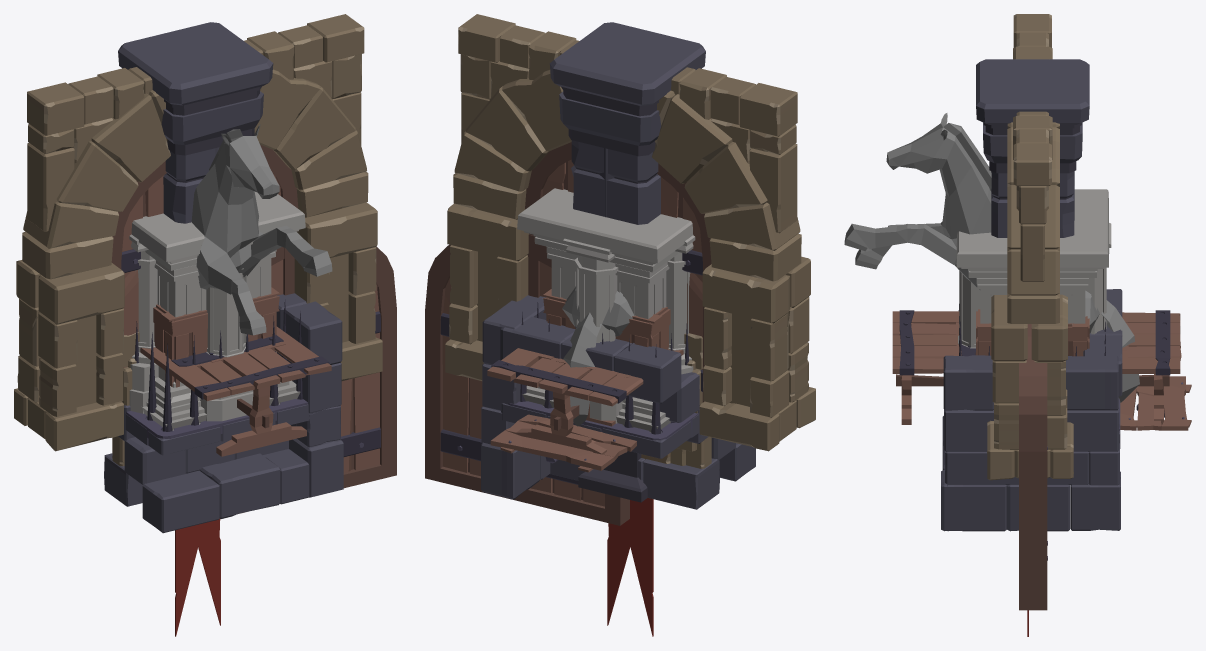
The model's file is SC_Lost_Quarters.fbx.
3 renders of one model, left to right at view 1: azimuth 30°, elevation 25°; view 2: azimuth 150°, elevation 25°; view 3: azimuth 270°, elevation 25°, orthographic. The views are drawn at different scales.
Visible parts, largest first — view 1: SM_Arch, SM_Column_2, SM_Stairs_Modular, SM_Horse, SM_Pedestal_2, SM_Arch_Door_Side, SM_Table_Big, SM_Pedestal_1, SM_Stairs_Side_Cover_Wall, SM_Arch_Door_2, SM_Crate, SM_Banner_wall (+8 smaller); view 2: SM_Arch, SM_Column_2, SM_Arch_Door_Side, SM_Pedestal_2, SM_Stairs_Modular, SM_Stairs_Side_Cover, SM_Table_Big, SM_Column_1, SM_Pedestal_1, SM_Arch_Door_2, SM_Banner_wall, SM_Wall_Cover_Modular (+8 smaller); view 3: SM_Arch, SM_Stairs_Side_Cover, SM_Horse, SM_Table_Big, SM_Column_2, SM_Stairs_Side_Cover_Wall, SM_Pedestal_2, SM_Arch_Door_Side, SM_Trapdoor_Open, SM_Column_1, SM_Pedestal_1, SM_Stairs_Modular (+1 smaller).
Boxes of the visible parts, x1,y1,x2,y2 form: SM_Arch: (14, 14, 382, 451); SM_Column_2: (118, 22, 273, 174); SM_Stairs_Modular: (118, 405, 309, 533); SM_Horse: (191, 124, 332, 335); SM_Pedestal_2: (131, 191, 305, 430); SM_Arch_Door_Side: (219, 246, 396, 518); SM_Table_Big: (140, 326, 331, 456); SM_Pedestal_1: (129, 234, 276, 421); SM_Stairs_Side_Cover_Wall: (276, 293, 342, 460); SM_Arch_Door_2: (111, 144, 298, 367); SM_Crate: (153, 287, 279, 387); SM_Banner_wall: (175, 518, 220, 636); SM_Arch: (445, 14, 815, 451); SM_Column_2: (549, 22, 705, 217); SM_Arch_Door_Side: (425, 234, 629, 525); SM_Pedestal_2: (517, 188, 693, 432); SM_Stairs_Modular: (500, 316, 755, 481); SM_Stairs_Side_Cover: (481, 295, 550, 499); SM_Table_Big: (487, 348, 683, 454); SM_Column_1: (561, 87, 660, 224); SM_Pedestal_1: (563, 235, 695, 423); SM_Arch_Door_2: (525, 142, 711, 402); SM_Banner_wall: (607, 498, 653, 636); SM_Wall_Cover_Modular: (550, 458, 719, 509); SM_Arch: (987, 14, 1073, 480); SM_Stairs_Side_Cover: (941, 356, 1120, 531); SM_Horse: (844, 113, 1139, 402); SM_Table_Big: (892, 310, 1181, 424); SM_Column_2: (976, 59, 1089, 220); SM_Stairs_Side_Cover_Wall: (943, 355, 1115, 531); SM_Pedestal_2: (956, 189, 1108, 324); SM_Arch_Door_Side: (1019, 324, 1047, 610); SM_Trapdoor_Open: (1120, 376, 1191, 430); SM_Column_1: (983, 123, 1081, 237); SM_Pedestal_1: (958, 223, 1111, 348); SM_Stairs_Modular: (942, 289, 1122, 469).
Bounding box in the file's own units: 4.47 × 6.87 × 3.97.
